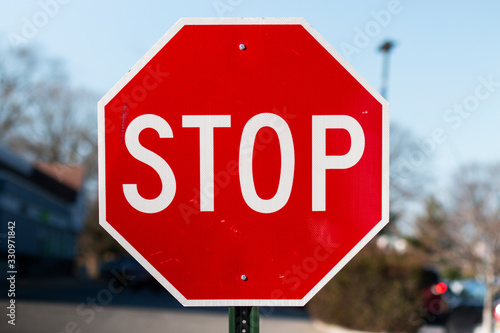StopSign: (96, 17, 390, 306)
